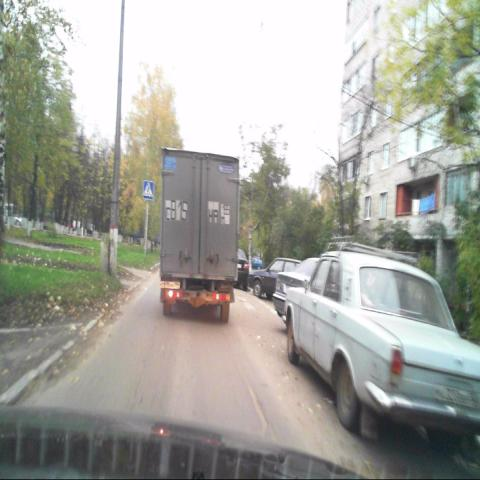5_19_1: (143, 181, 153, 200)
